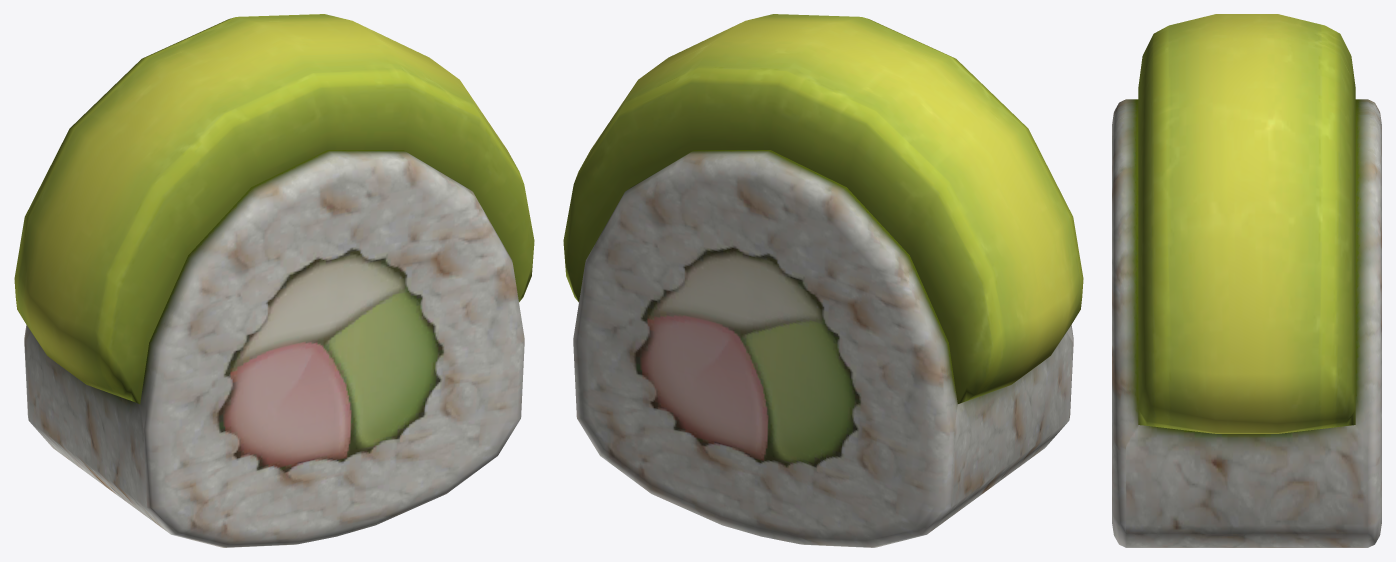
Rendered from 0-sushi_green.fbx.
3 views of the same model, side by side, from view 1: azimuth 30°, elevation 25°; view 2: azimuth 150°, elevation 25°; view 3: azimuth 270°, elevation 25° (orthographic). The views are drawn at different scales.
Parts seen in each view (by area): view 1: 0-sushi_green; view 2: 0-sushi_green; view 3: 0-sushi_green.
Boxes of the visible parts, x1,y1,x2,y2 form: 0-sushi_green: [14, 14, 534, 547]; 0-sushi_green: [563, 14, 1083, 547]; 0-sushi_green: [1112, 14, 1381, 547].
Bounding box in the file's own units: 99.33 × 94.17 × 49.13.
